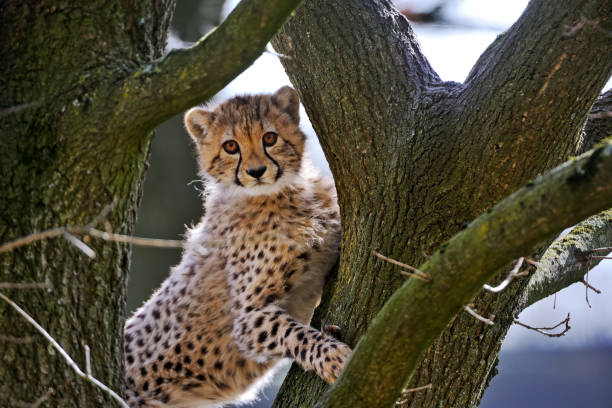cheetah: (160, 84, 326, 220)
